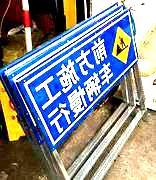sign: (26, 28, 127, 129)
